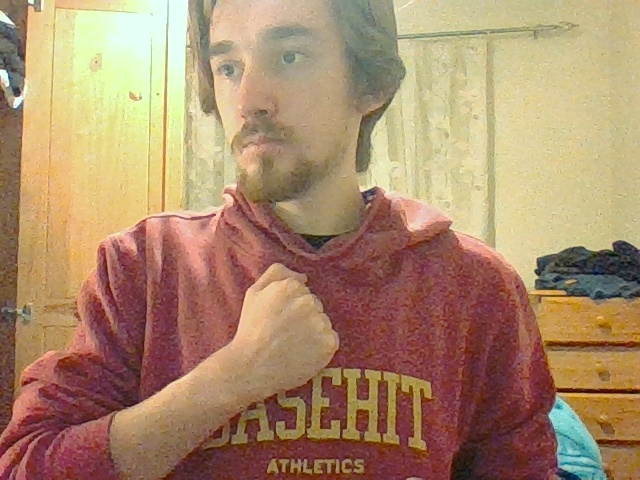my: (241, 262, 339, 381)
